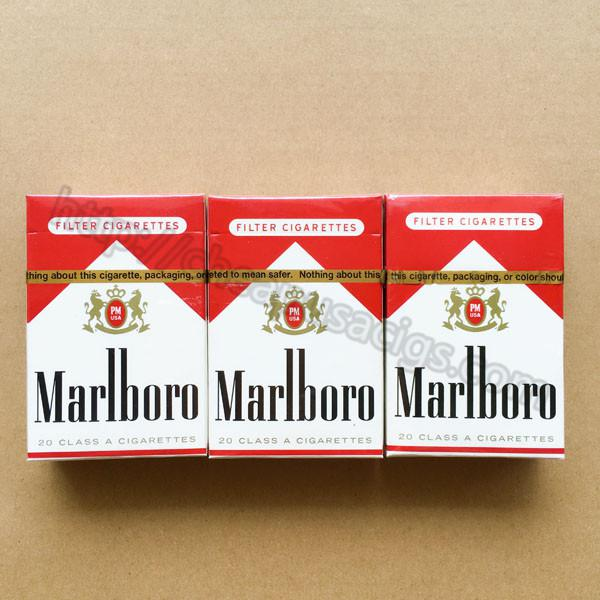marlboro_red: (205, 197, 383, 461), (389, 197, 566, 459), (29, 199, 206, 456)
